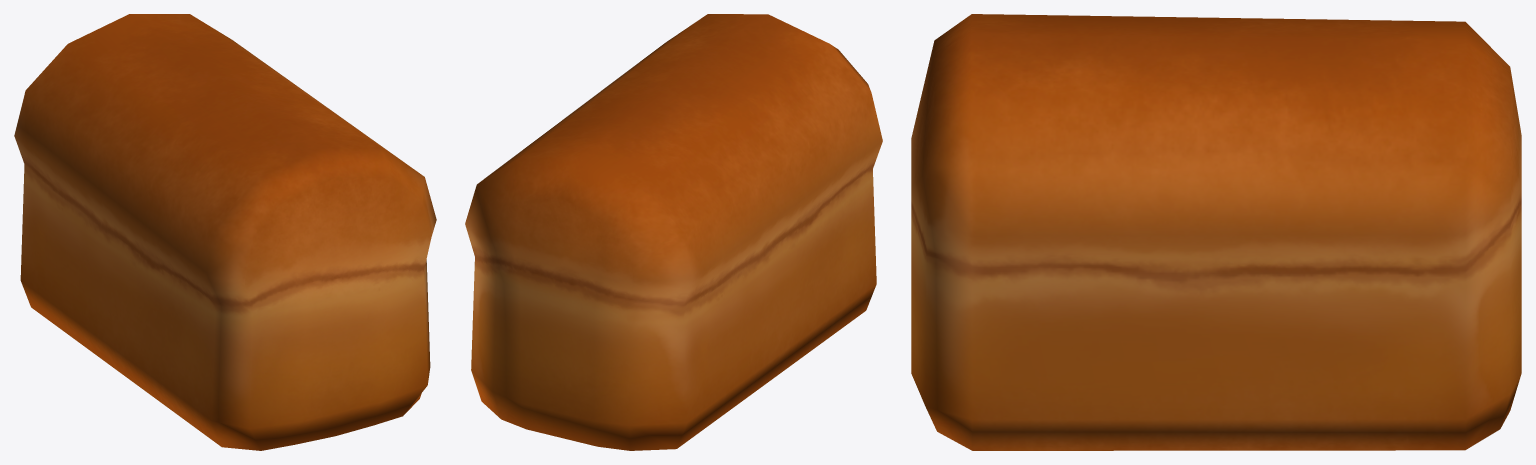
The model's file is Loaf.fbx.
The picture shows the model from 3 angles, left to right: view 1: azimuth 30°, elevation 25°; view 2: azimuth 150°, elevation 25°; view 3: azimuth 270°, elevation 25°; orthographic projection. The views are drawn at different scales.
Parts seen in each view (by area): view 1: Loaf; view 2: Loaf; view 3: Loaf.
Boxes of the visible parts, left/top/right/bottom form: Loaf: left=14, top=14, right=436, bottom=450; Loaf: left=465, top=14, right=882, bottom=450; Loaf: left=911, top=14, right=1521, bottom=450.
Size of the model in its own units: 35.27 by 40.02 by 62.45.
